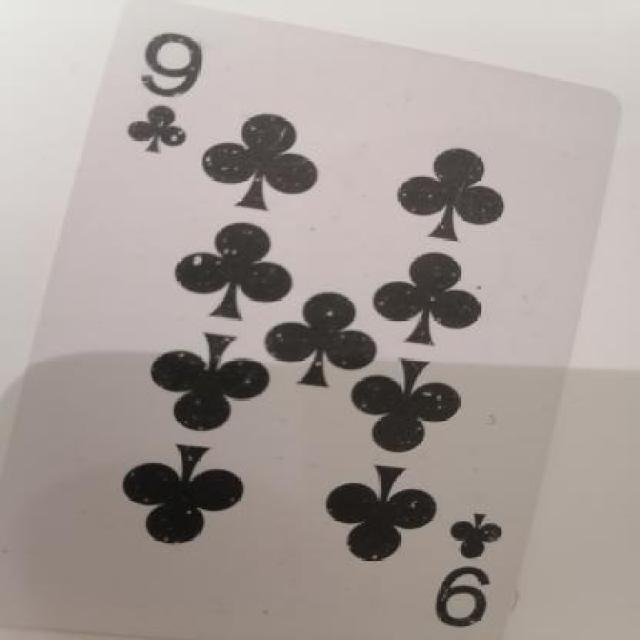9C: (98, 25, 242, 160), (418, 489, 538, 637)
